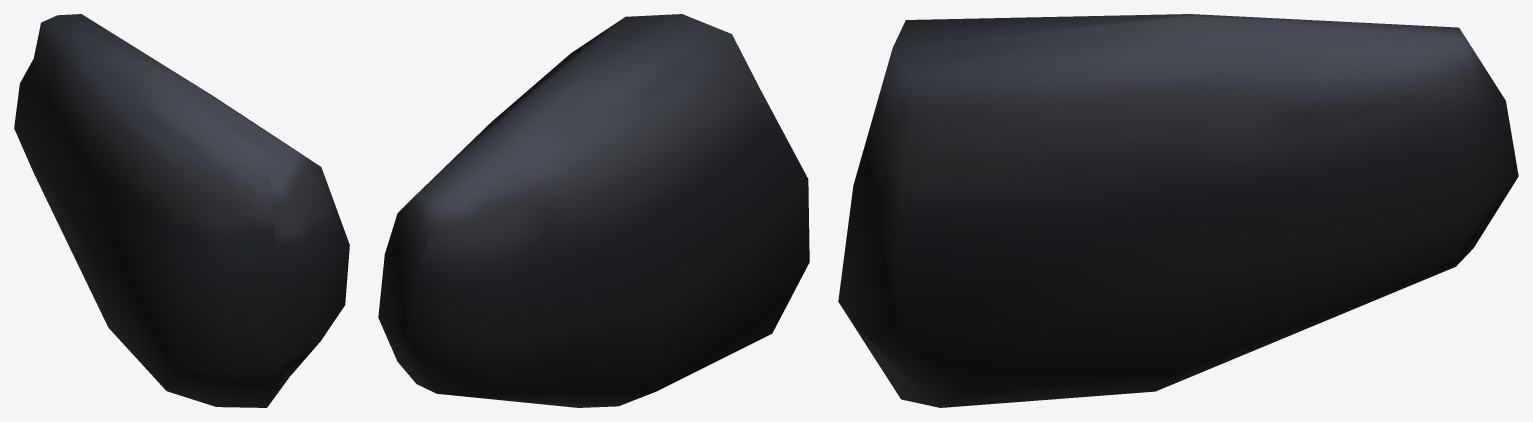
Rendered from PingWingLeft.fbx.
The picture shows the model from 3 angles, left to right: view 1: azimuth 30°, elevation 25°; view 2: azimuth 150°, elevation 25°; view 3: azimuth 270°, elevation 25°; orthographic projection. The views are drawn at different scales.
Parts seen in each view (by area): view 1: Cube; view 2: Cube; view 3: Cube.
Part boxes in pixels (x1=…): Cube: x1=14, y1=14, x2=349, y2=407; Cube: x1=378, y1=14, x2=809, y2=407; Cube: x1=838, y1=14, x2=1518, y2=407.
Bounding box in the file's own units: 9.74 × 13.55 × 22.43.
1 material, 1 textured.
